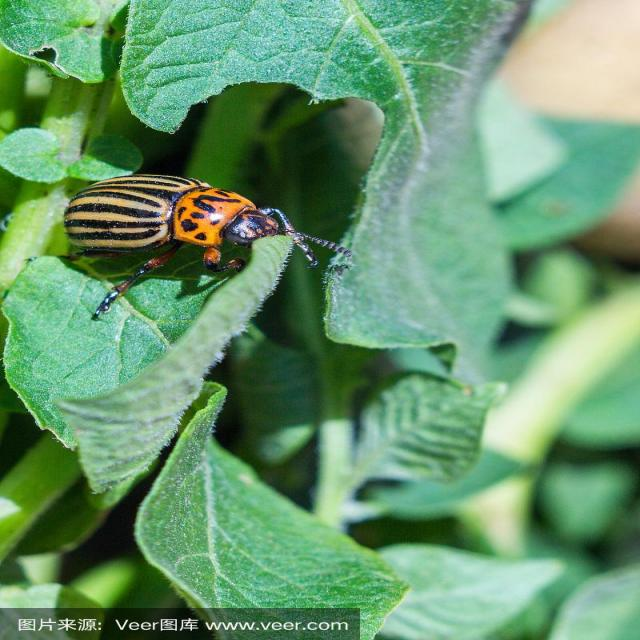ShuCaiHuaBanChong-Grown-: (38, 161, 327, 287)
